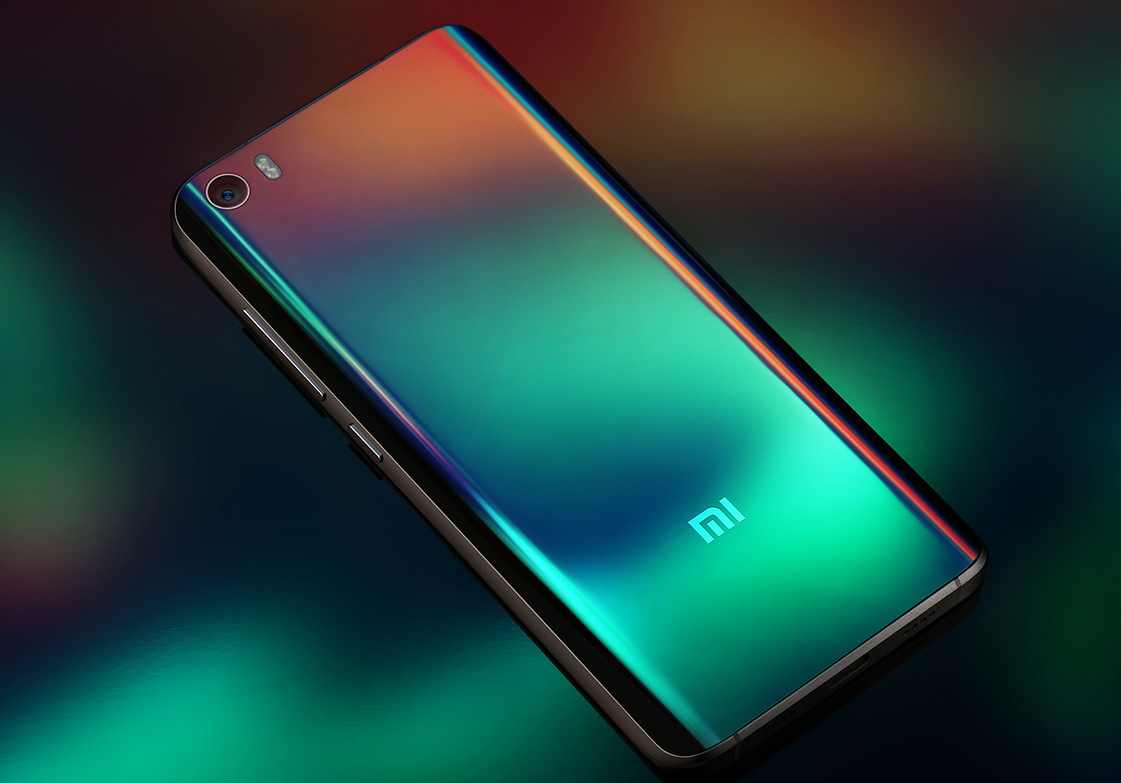smartphone: (170, 24, 991, 783)
